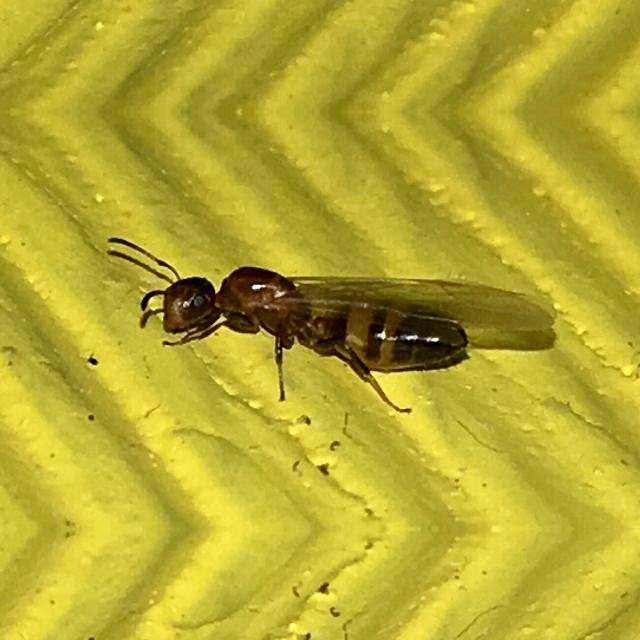Colobopsis: (104, 243, 516, 397)
